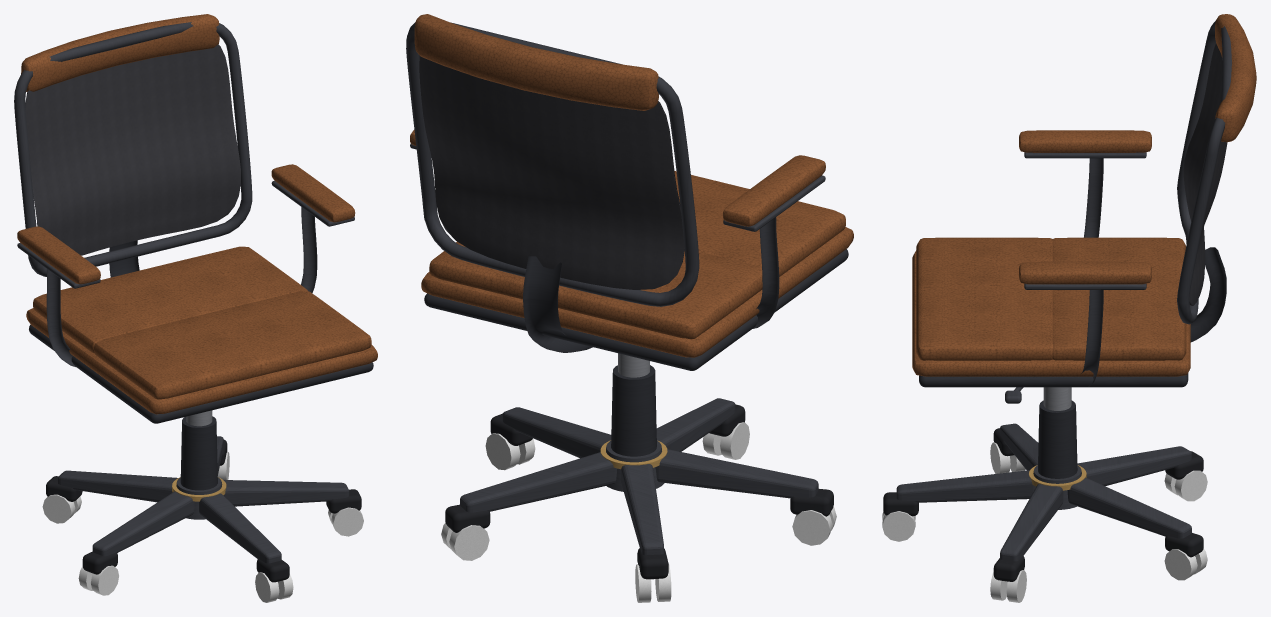
File: boardroom_chair.glb
3 renders of one model, left to right at view 1: azimuth 30°, elevation 25°; view 2: azimuth 150°, elevation 25°; view 3: azimuth 270°, elevation 25°, orthographic. The views are drawn at different scales.
Visible parts, largest first — view 1: part_back_LOD0, part_seat_LOD0, part_base_LOD0, part_arm_r_LOD0, part_arm_l_LOD0, part_column_LOD0; view 2: part_back_LOD0, part_seat_LOD0, part_base_LOD0, part_arm_r_LOD0, part_column_LOD0; view 3: part_seat_LOD0, part_base_LOD0, part_back_LOD0, part_arm_l_LOD0, part_arm_r_LOD0, part_column_LOD0.
Part boxes in pixels (x1,y1,x2,y2): part_back_LOD0: (14, 14, 252, 277); part_seat_LOD0: (26, 246, 377, 423); part_base_LOD0: (42, 436, 363, 602); part_arm_r_LOD0: (17, 226, 100, 367); part_arm_l_LOD0: (271, 164, 355, 292); part_column_LOD0: (180, 410, 217, 490); part_back_LOD0: (406, 14, 699, 352); part_seat_LOD0: (421, 171, 853, 370); part_base_LOD0: (441, 398, 836, 602); part_arm_r_LOD0: (723, 155, 825, 328); part_column_LOD0: (611, 353, 656, 456); part_seat_LOD0: (912, 237, 1190, 387); part_base_LOD0: (882, 423, 1207, 602); part_back_LOD0: (1177, 14, 1256, 342); part_arm_l_LOD0: (1019, 261, 1151, 386); part_arm_r_LOD0: (1019, 130, 1151, 237); part_column_LOD0: (1038, 387, 1077, 478).
Size of what is drawn, in the model's own units: 0.62 by 0.945 by 0.6745.
8 materials, 8 textured.
